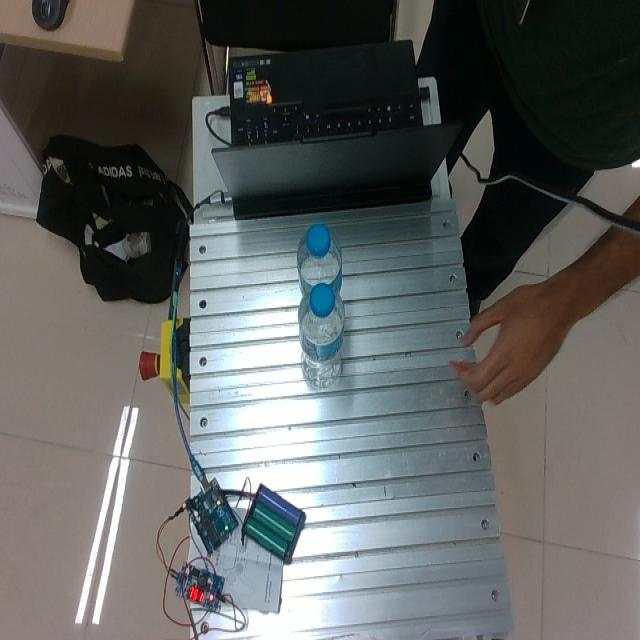lavie: (297, 282, 345, 389), (296, 224, 343, 300)
